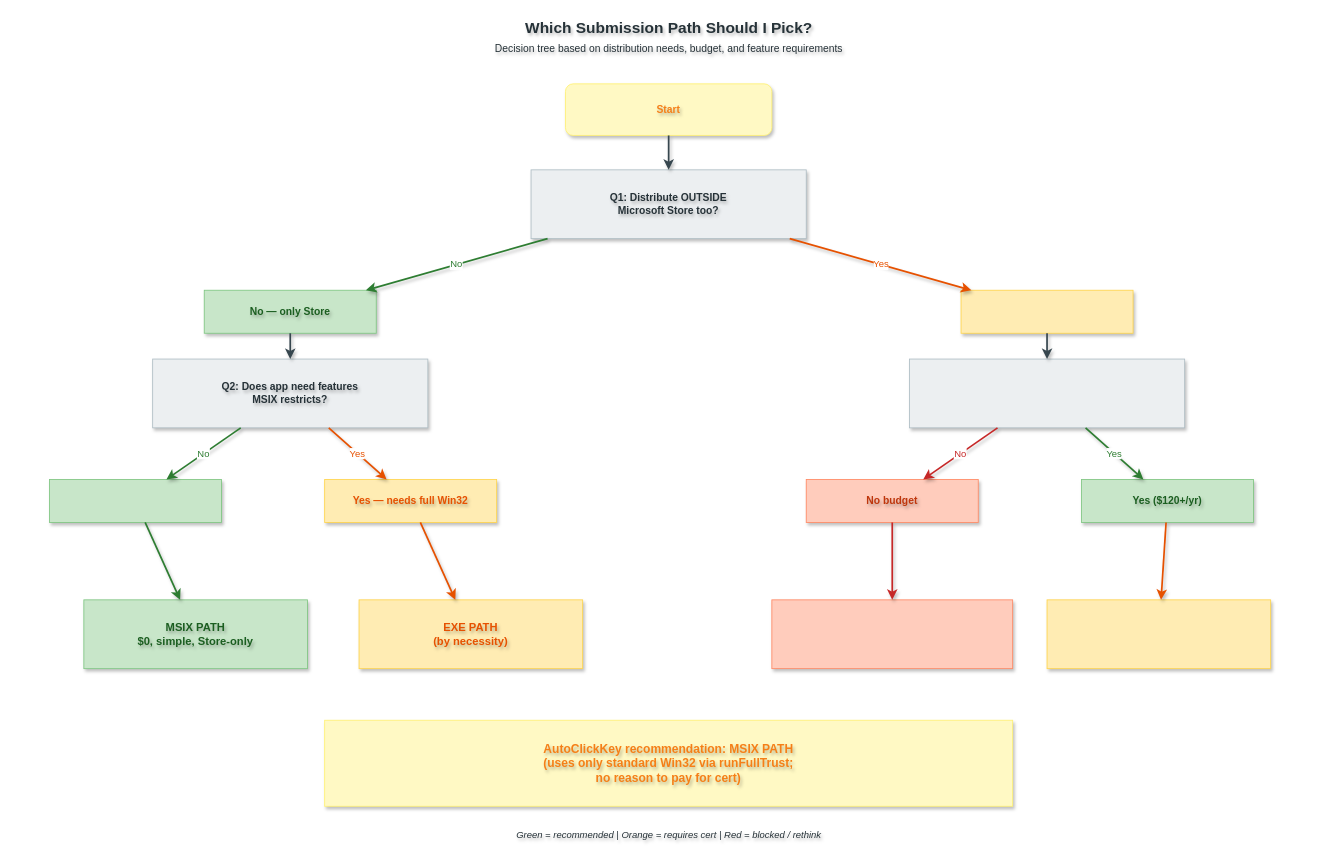
Image size: 1336x859. Some labels were removed from this diagram. The centre of each missing label's shape, as x and y in pixels:
"EXE PATH or DUAL (Store + direct)" belongs at (x=1159, y=635).
"No — standard app" belongs at (x=136, y=501).
"Q3: Budget for code signing cert?" belongs at (x=1047, y=394).
"RETHINK: MSIX-only OR delay until cert budget" belongs at (x=893, y=635).
"Yes — also direct" belongs at (x=1047, y=312).
